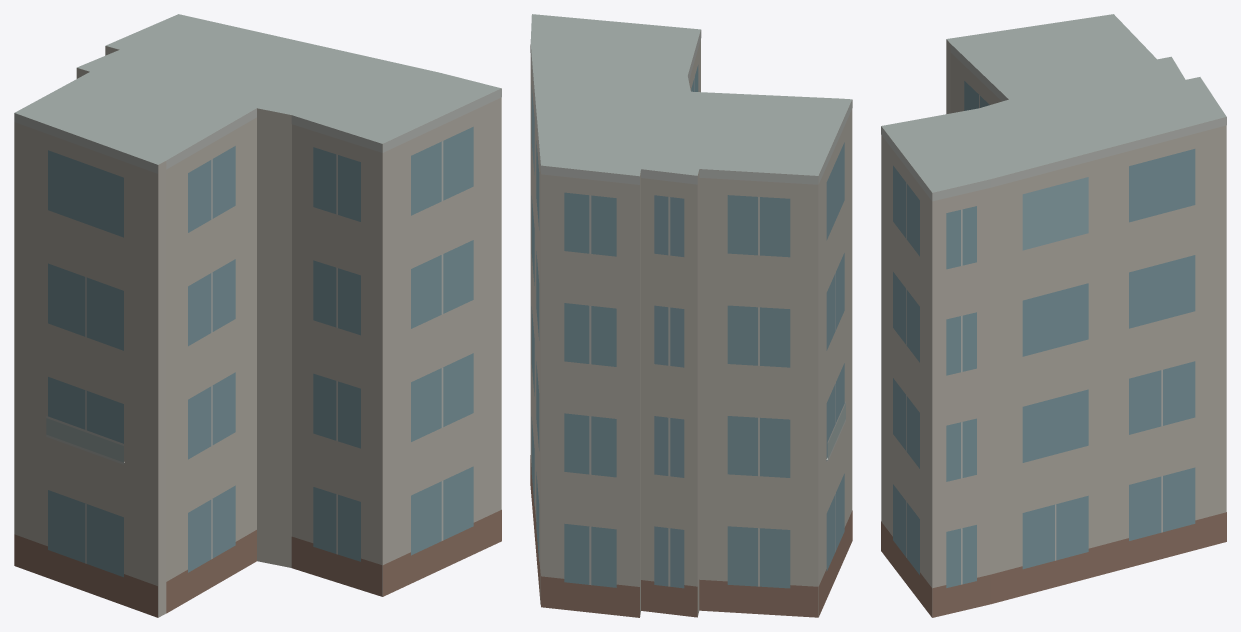
Rendered from survey-upis-32465149.glb.
3 renders of one model, left to right at view 1: azimuth 30°, elevation 25°; view 2: azimuth 150°, elevation 25°; view 3: azimuth 270°, elevation 25°, orthographic. The views are drawn at different scales.
Parts seen in each view (by area): view 1: survey-upis-32465149.tmp; view 2: survey-upis-32465149.tmp; view 3: survey-upis-32465149.tmp.
Boxes of the visible parts, x1=… form: survey-upis-32465149.tmp: x1=14, y1=14, x2=501, y2=617; survey-upis-32465149.tmp: x1=530, y1=14, x2=852, y2=617; survey-upis-32465149.tmp: x1=881, y1=14, x2=1226, y2=617.
Bounding box in the file's own units: 11.02 × 12.2 × 9.
